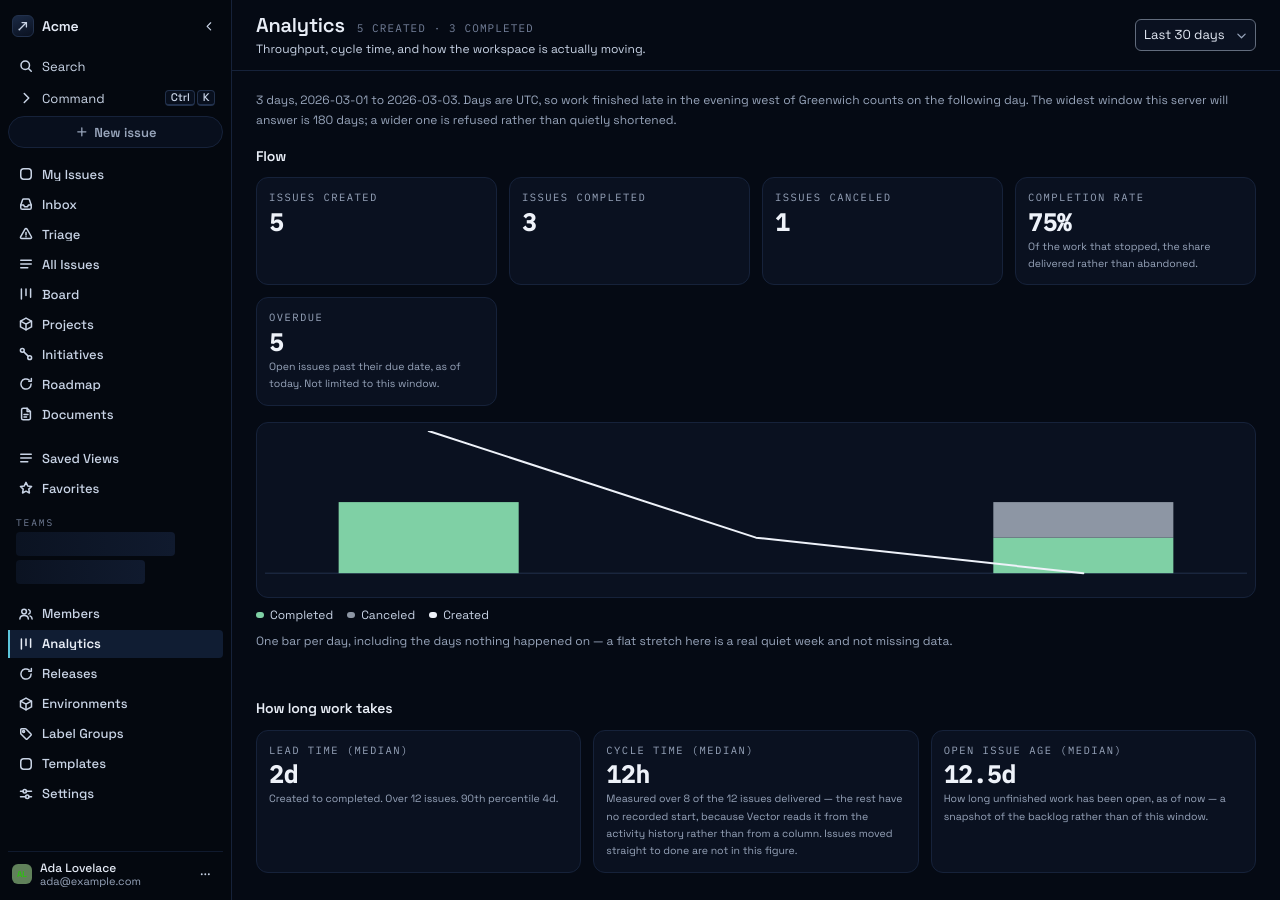
it: loading, failing and changing the window › keeps the previous window on screen while a wider one loads
The image size is (1280, 900).
Select "Last 90 days" in the dropdown named "Date range" at [1196, 35], box [1135, 19, 1256, 51]
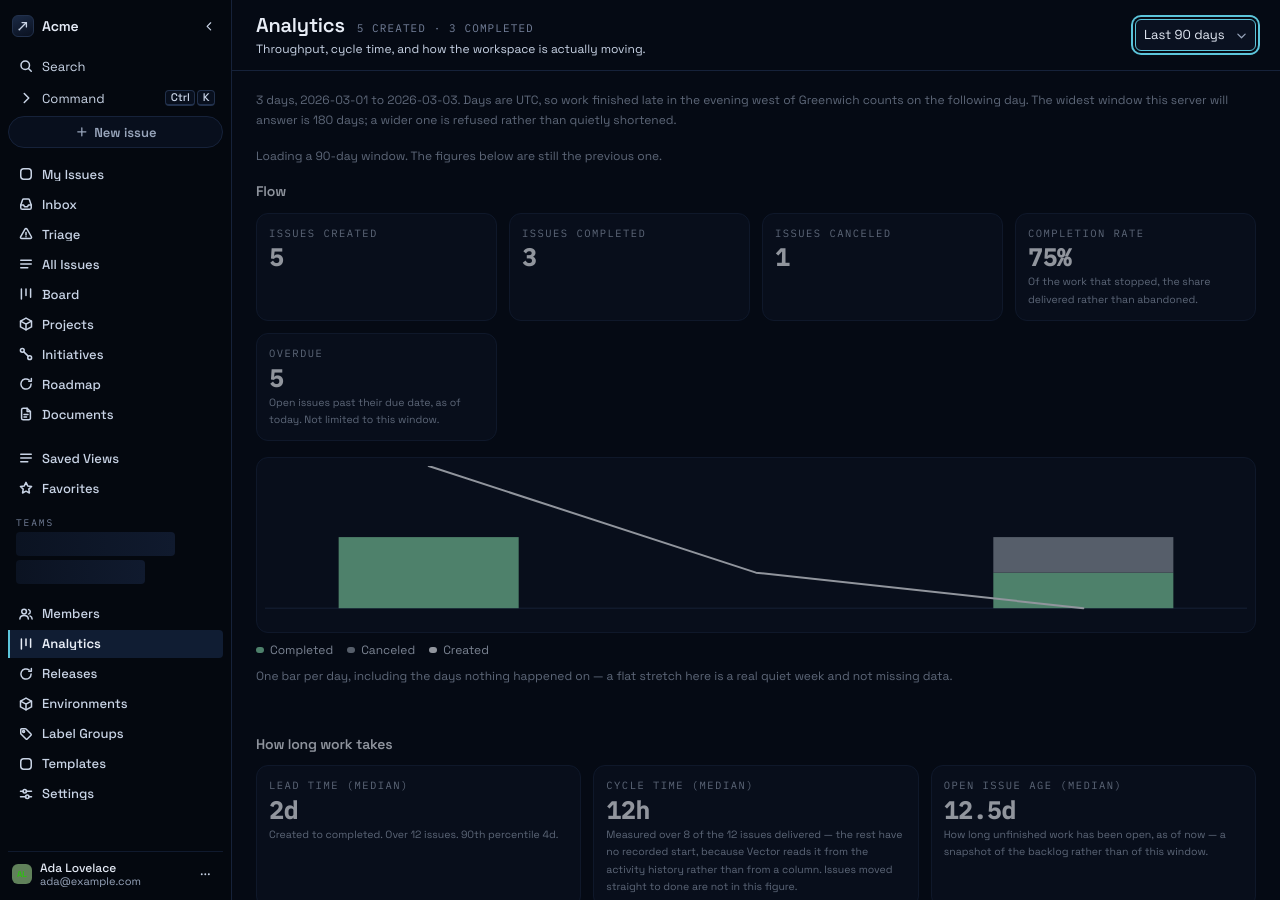
Result: the text "Loading a 90-day window. The figures below are still the previous one." is shown at [256, 148, 662, 164]
